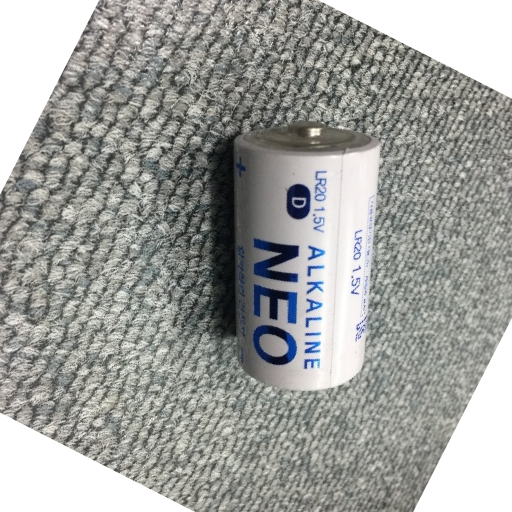Battery_0: (217, 96, 392, 403)
